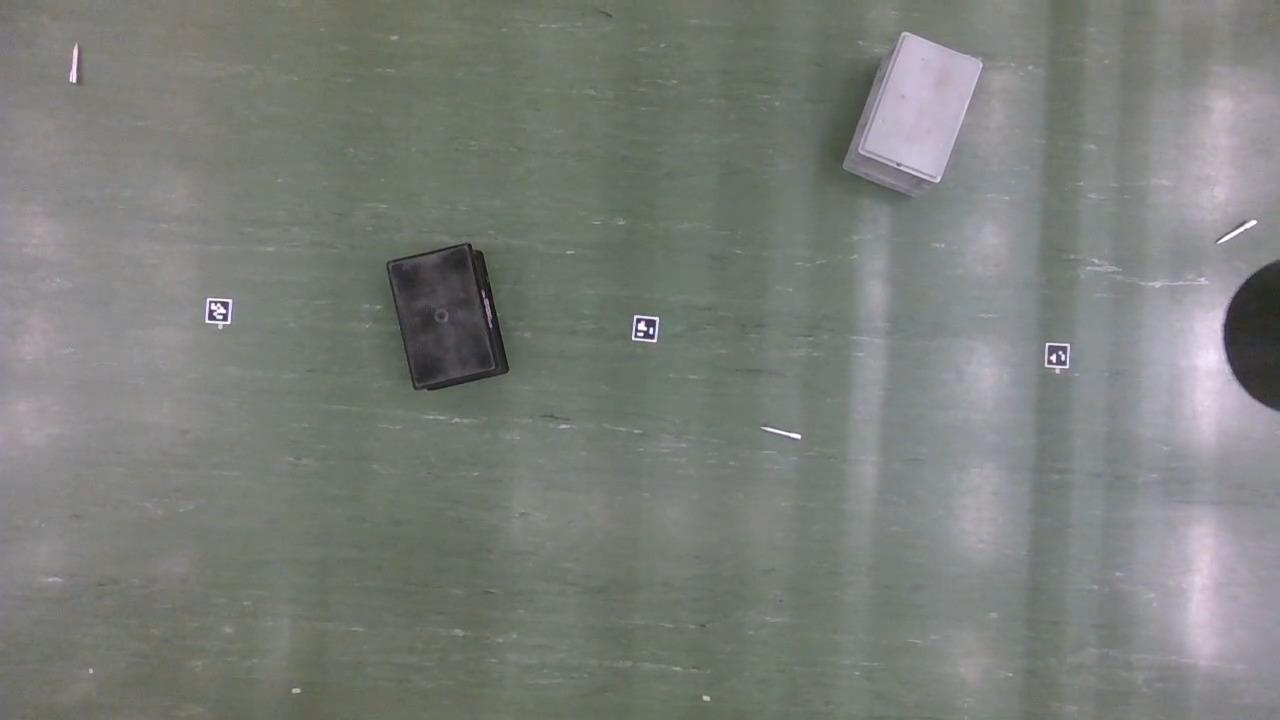probes: (1218, 221, 1254, 245), (762, 424, 801, 441), (70, 45, 80, 86)
rako: (841, 34, 983, 200), (387, 245, 509, 393)
